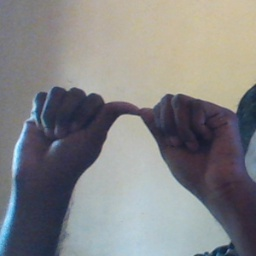A: (11, 85, 244, 197)
